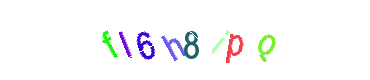6: (122, 0, 202, 80)
8: (151, 0, 231, 80)
F: (69, 0, 149, 80)
H: (144, 0, 224, 80)
I: (164, 0, 244, 80)
L: (99, 0, 179, 80)
P: (193, 0, 273, 80)
Q: (207, 0, 287, 80)
